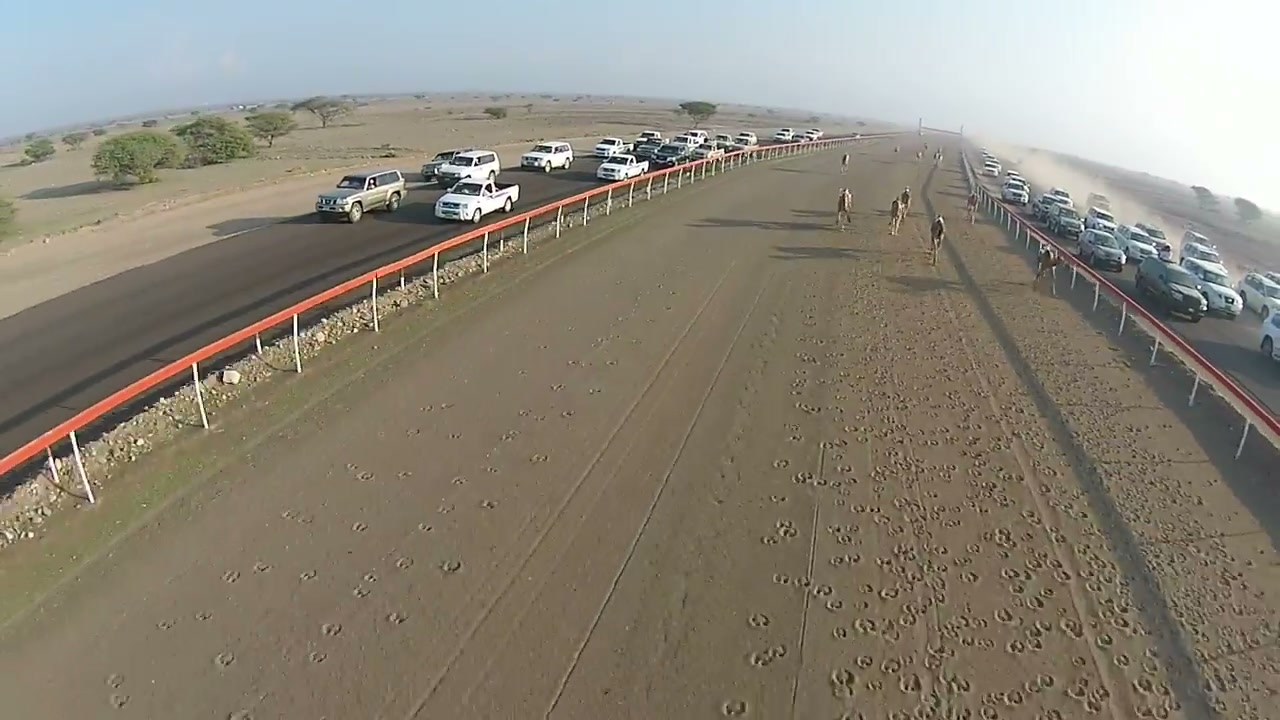animal_foot_print: (827, 391, 1101, 716), (756, 318, 864, 716), (811, 437, 931, 717), (997, 557, 1086, 648), (784, 331, 835, 443), (1065, 676, 1110, 714), (307, 622, 345, 664), (1144, 481, 1180, 516), (761, 519, 797, 544), (748, 644, 787, 667), (938, 671, 972, 697), (1011, 626, 1044, 652), (830, 668, 857, 699), (988, 689, 1029, 709), (878, 656, 913, 679), (820, 394, 847, 422), (771, 573, 813, 591), (848, 503, 882, 523), (827, 524, 856, 545), (843, 425, 874, 444), (1131, 675, 1159, 696), (1108, 614, 1137, 634), (1060, 617, 1085, 638), (793, 472, 828, 487), (1026, 619, 1052, 639), (721, 699, 749, 717), (815, 376, 843, 394), (801, 292, 821, 317), (994, 606, 1020, 625), (830, 481, 848, 508), (829, 552, 861, 567), (281, 509, 313, 524), (852, 617, 878, 635), (870, 426, 901, 440), (775, 520, 797, 539), (962, 637, 995, 649), (108, 692, 129, 709), (1005, 638, 1027, 654), (977, 704, 1000, 719), (748, 651, 771, 666), (797, 335, 828, 346), (795, 401, 821, 414), (439, 560, 463, 574), (1022, 595, 1046, 609), (796, 351, 820, 365), (214, 652, 235, 668), (855, 654, 876, 670), (748, 613, 770, 628), (835, 710, 869, 719), (590, 337, 615, 349), (792, 471, 815, 484), (820, 438, 847, 449), (1021, 508, 1039, 524), (824, 598, 844, 612), (386, 611, 407, 624), (321, 623, 342, 636), (812, 584, 833, 597), (106, 673, 123, 689), (308, 650, 327, 664), (825, 350, 845, 363), (831, 625, 849, 639), (226, 710, 253, 719), (772, 573, 792, 585), (395, 556, 413, 569), (352, 585, 370, 598), (222, 570, 239, 583), (355, 470, 375, 481), (299, 569, 317, 581), (501, 429, 519, 441), (253, 561, 271, 573), (363, 572, 379, 585), (791, 377, 808, 389), (296, 514, 314, 525), (769, 493, 787, 504), (761, 534, 779, 545), (965, 542, 981, 554), (156, 619, 175, 629), (193, 611, 212, 621), (529, 453, 548, 463), (479, 499, 497, 509), (784, 423, 800, 434), (802, 316, 818, 327), (437, 503, 453, 514), (396, 469, 413, 479), (351, 522, 368, 532), (417, 522, 433, 532), (773, 458, 789, 468), (405, 427, 422, 436), (345, 462, 358, 473), (452, 475, 466, 485), (532, 414, 547, 423), (793, 368, 808, 377), (485, 465, 500, 474), (788, 433, 803, 442), (418, 404, 434, 412), (790, 388, 804, 397), (438, 402, 454, 409), (566, 359, 582, 366), (561, 410, 574, 418), (550, 383, 563, 391), (518, 408, 531, 416), (449, 431, 461, 439), (589, 387, 602, 394), (516, 368, 527, 376), (606, 359, 617, 366), (566, 325, 575, 332), (538, 345, 548, 349)
